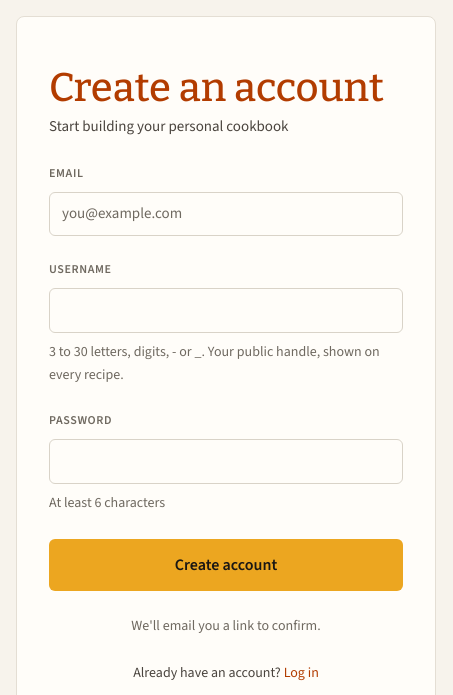
Scenario: Sign-up page › an edited email left by a press on the submit button shows no message until the browser stops the submit
Type "jane@" into the field labelled "Email" at (226, 214), box [49,192,403,236]
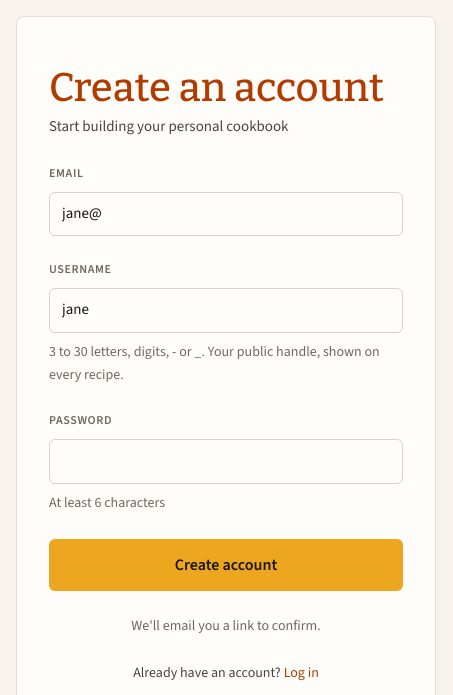
Press the mouse on the button "Create account" at (226, 565), box [49,539,403,591]
Leave the field labelled "Email", box [49,192,403,236]
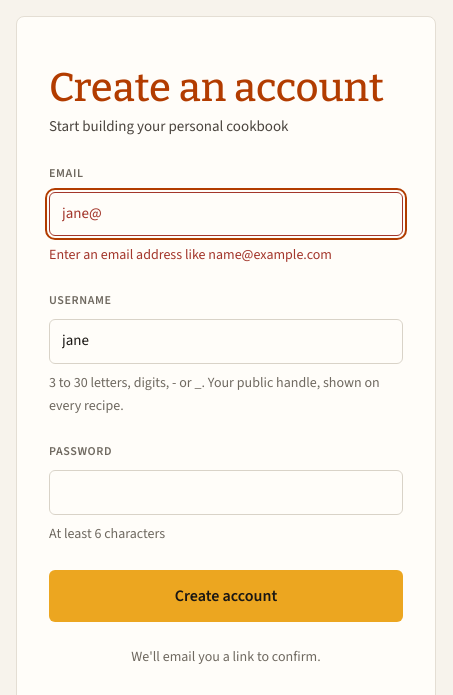
Check: the text "Enter an email address like name@example.com" is shown, box [49,245,332,265]
